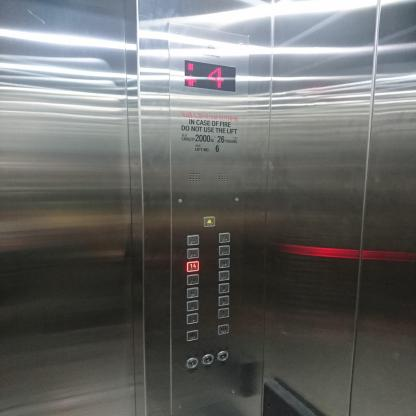1: (218, 307, 229, 319)
10: (186, 274, 198, 285)
12: (218, 270, 230, 281)
14: (186, 260, 198, 272)
16: (218, 257, 230, 268)
18: (187, 247, 199, 259)
2: (186, 300, 198, 312)
20: (218, 245, 230, 255)
22: (187, 234, 199, 245)
24: (219, 232, 230, 243)
4: (218, 294, 229, 306)
6: (186, 286, 198, 298)
8: (218, 282, 230, 294)
G: (186, 312, 198, 325)
alarm: (204, 216, 216, 227)
close: (218, 324, 229, 334)
keyhole: (186, 357, 198, 369), (202, 354, 214, 365), (217, 350, 229, 361)
led: (184, 60, 236, 92)
open: (186, 329, 198, 342)
